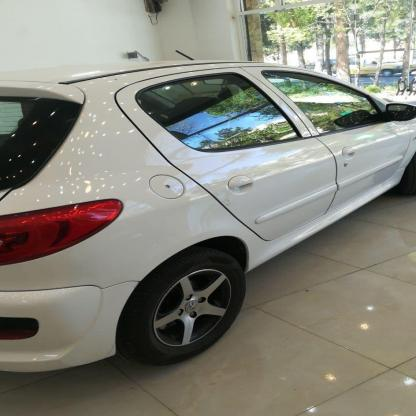Car: (0, 46, 416, 380)
